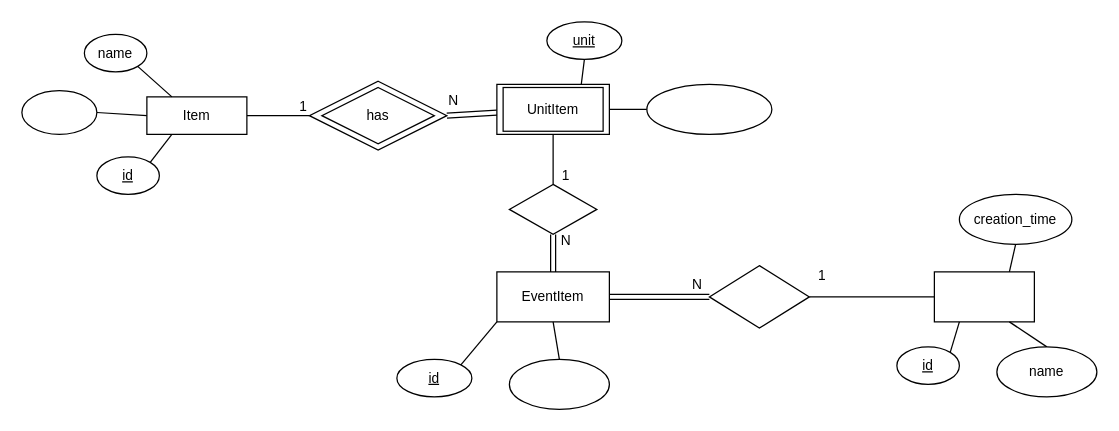
Image size: 1119x431. Some labels were removed from this diagram. The shapes that lost their labels are listed below. From the top down, each one's centre as x and y in pixels, then its label:
pixel 59 111: desc
pixel 709 108: OCR_keywords
pixel 552 208: is
pixel 758 296: belong_to
pixel 983 296: Event
pixel 558 383: quantity
